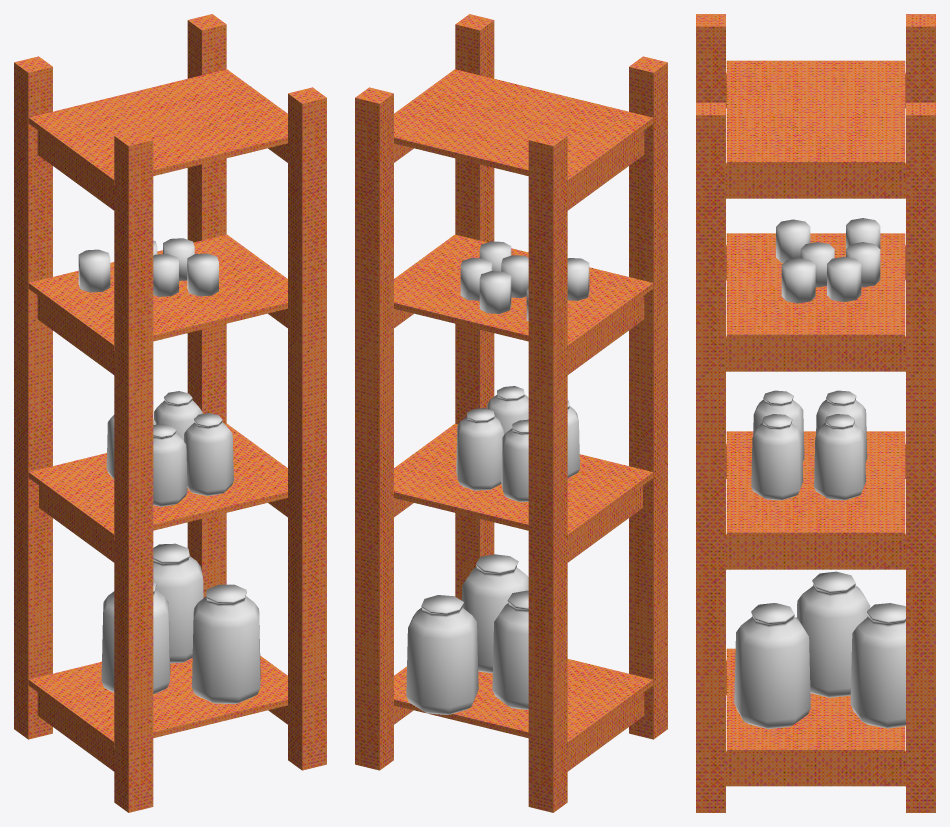
Rendered from shelf&jars.fbx.
3 views of the same model, side by side, from view 1: azimuth 30°, elevation 25°; view 2: azimuth 150°, elevation 25°; view 3: azimuth 270°, elevation 25° (orthographic). The views are drawn at different scales.
Parts seen in each view (by area): view 1: shelf, jar of pickles.002, jar of pickles, jar of tomato.001, jar of pickles.001, jar of tomato.003, jar of tomato, can.004, can.002, can.003, can.005; view 2: shelf, jar of pickles, jar of pickles.002, jar of pickles.001, jar of tomato, jar of tomato.002, can, jar of tomato.001, can.005, can.001, can.003, jar of tomato.003 (+1 smaller); view 3: shelf, jar of pickles.002, jar of pickles, jar of pickles.001, jar of tomato, jar of tomato.001, can.002, can.005, jar of tomato.003, jar of tomato.002, can.001, can (+2 smaller).
Part boxes in pixels (x1,y1,x2,y2): shelf: [14, 14, 326, 812]; jar of pickles.002: [192, 584, 260, 703]; jar of pickles: [153, 543, 203, 663]; jar of tomato.001: [184, 413, 233, 495]; jar of pickles.001: [101, 582, 170, 694]; jar of tomato.003: [153, 423, 187, 506]; jar of tomato: [154, 391, 202, 440]; can.004: [78, 249, 110, 292]; can.002: [187, 253, 218, 296]; can.003: [153, 254, 178, 296]; can.005: [163, 238, 194, 280]; shelf: [355, 14, 667, 812]; jar of pickles: [406, 595, 478, 714]; jar of pickles.002: [461, 554, 528, 673]; jar of pickles.001: [492, 590, 528, 709]; jar of tomato: [456, 408, 503, 490]; jar of tomato.002: [501, 419, 528, 502]; can: [479, 271, 511, 313]; jar of tomato.001: [487, 386, 528, 434]; can.005: [460, 258, 492, 300]; can.001: [567, 258, 589, 300]; can.003: [501, 255, 528, 297]; jar of tomato.003: [567, 400, 579, 477]; shelf: [696, 14, 935, 812]; jar of pickles.002: [734, 603, 810, 728]; jar of pickles: [850, 603, 905, 728]; jar of pickles.001: [796, 571, 870, 697]; jar of tomato: [814, 414, 865, 500]; jar of tomato.001: [751, 414, 803, 500]; can.002: [781, 258, 815, 303]; can.005: [827, 256, 861, 301]; jar of tomato.003: [753, 390, 804, 462]; jar of tomato.002: [816, 390, 867, 461]; can.001: [776, 219, 810, 263]; can: [846, 242, 880, 287].
Bounding box in the file's own units: 100 × 321 × 100.
